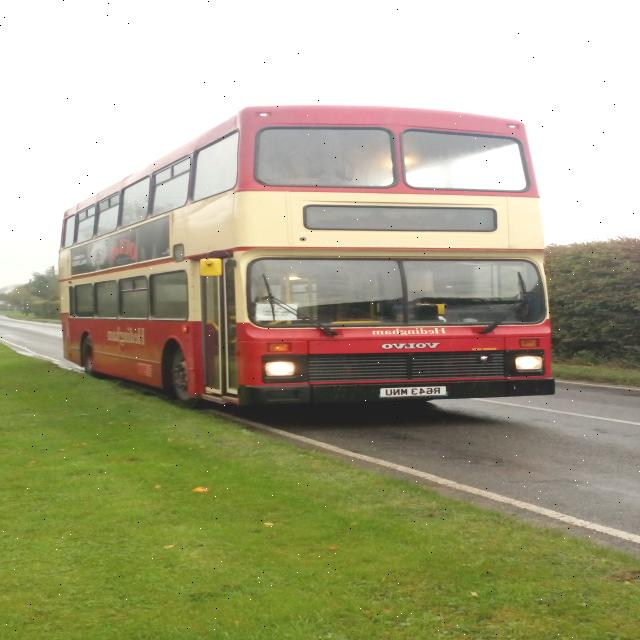Bus: (63, 103, 555, 404)
